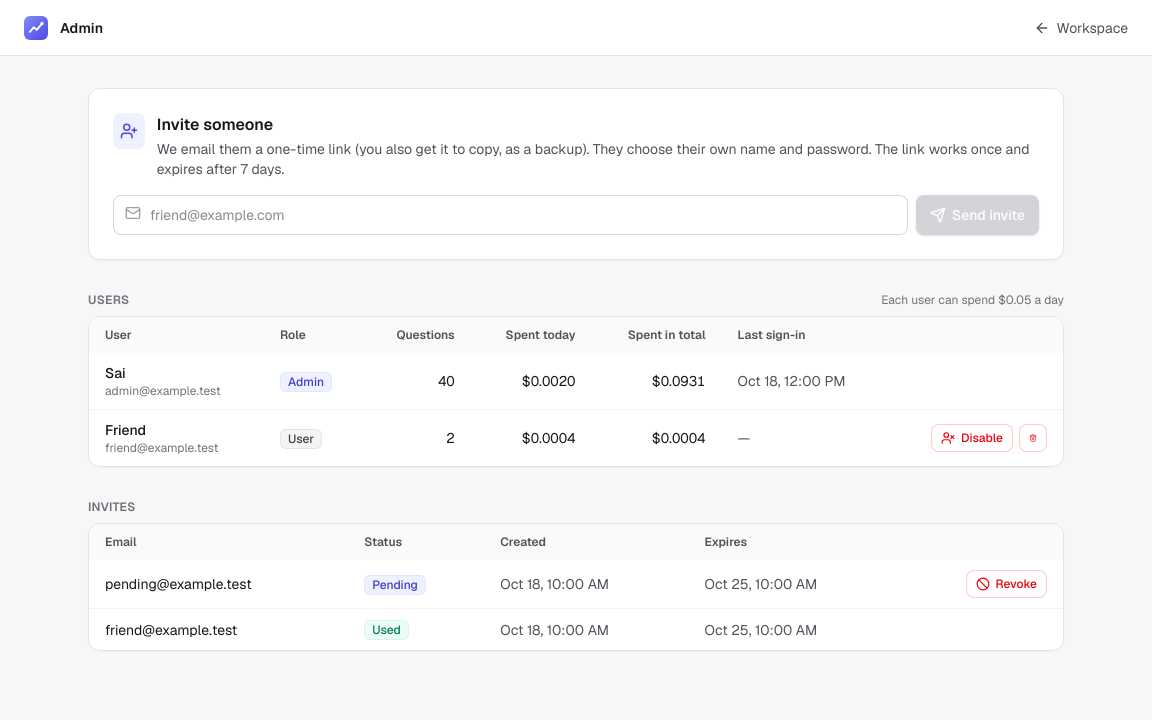
Test case: Admin › deletes a normal user after a clear warning, never an admin
Check: the button "Delete" is not shown
Step 1. Click the button named "Delete" → (1033, 438), box left=1019, top=424, right=1047, bottom=452
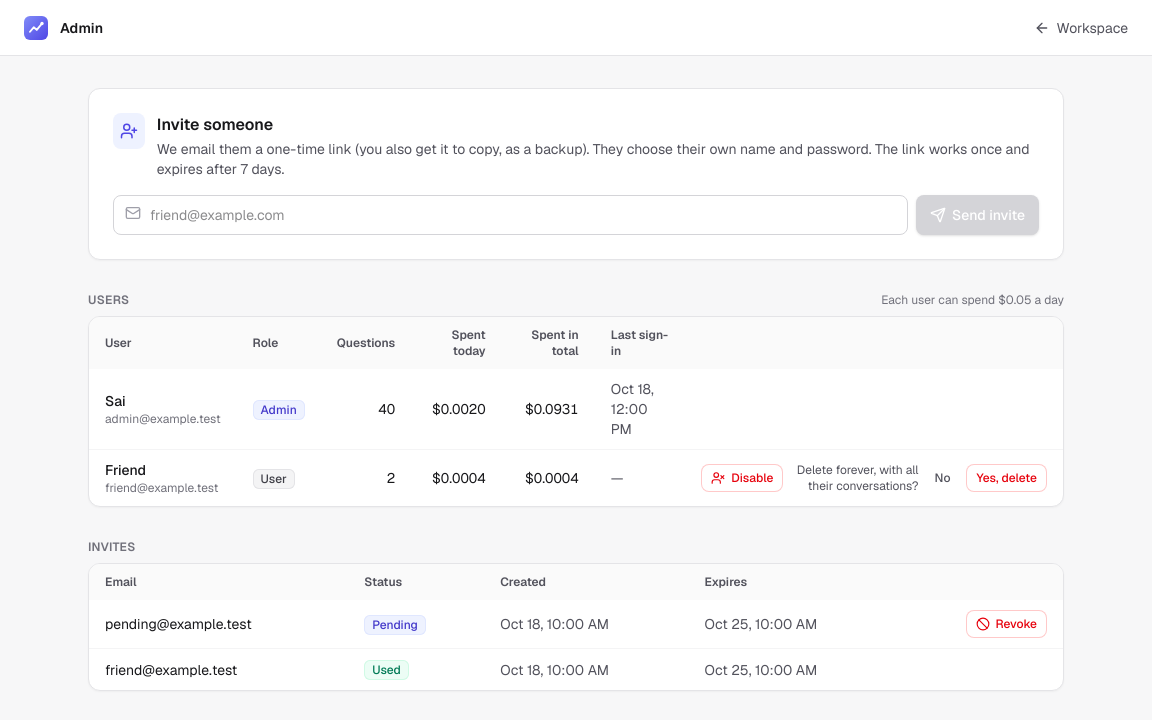
Check: the text "Delete forever, with all their conversations?" is shown, box left=789, top=462, right=918, bottom=494
Step 2. Click the button "Yes, delete" → (1007, 478), box left=966, top=464, right=1047, bottom=492
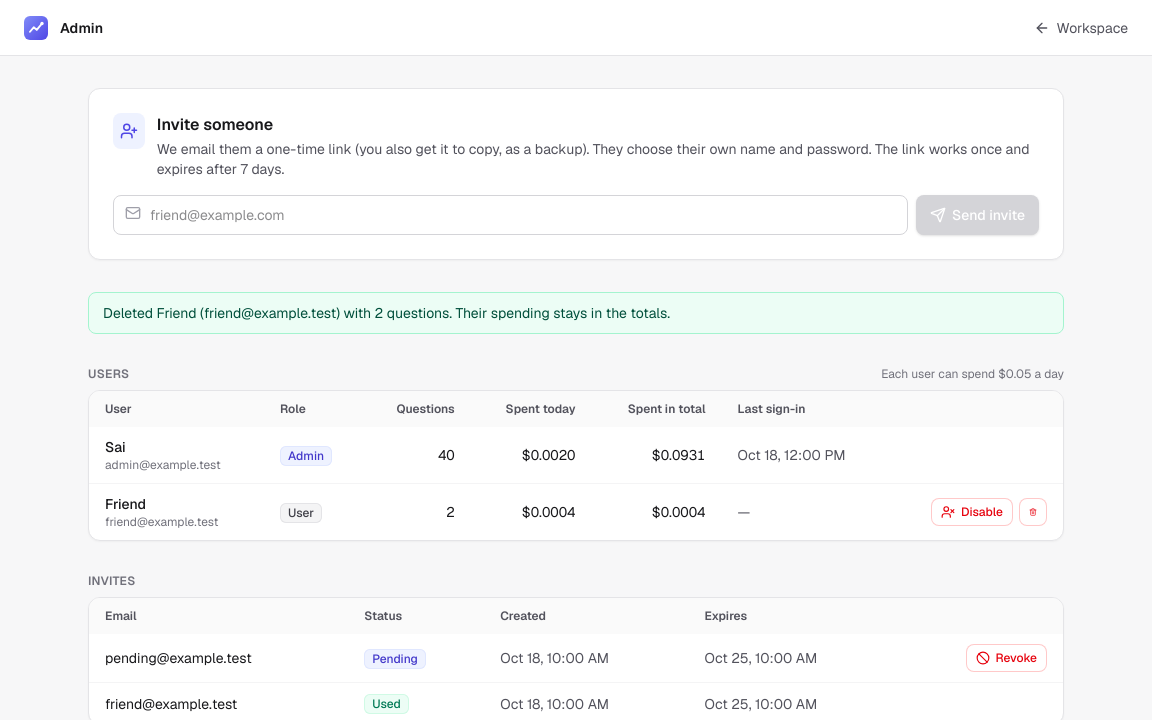
Check: the text "Deleted Friend (friend@example.test) with 2 questions" is shown, box left=103, top=304, right=670, bottom=322
